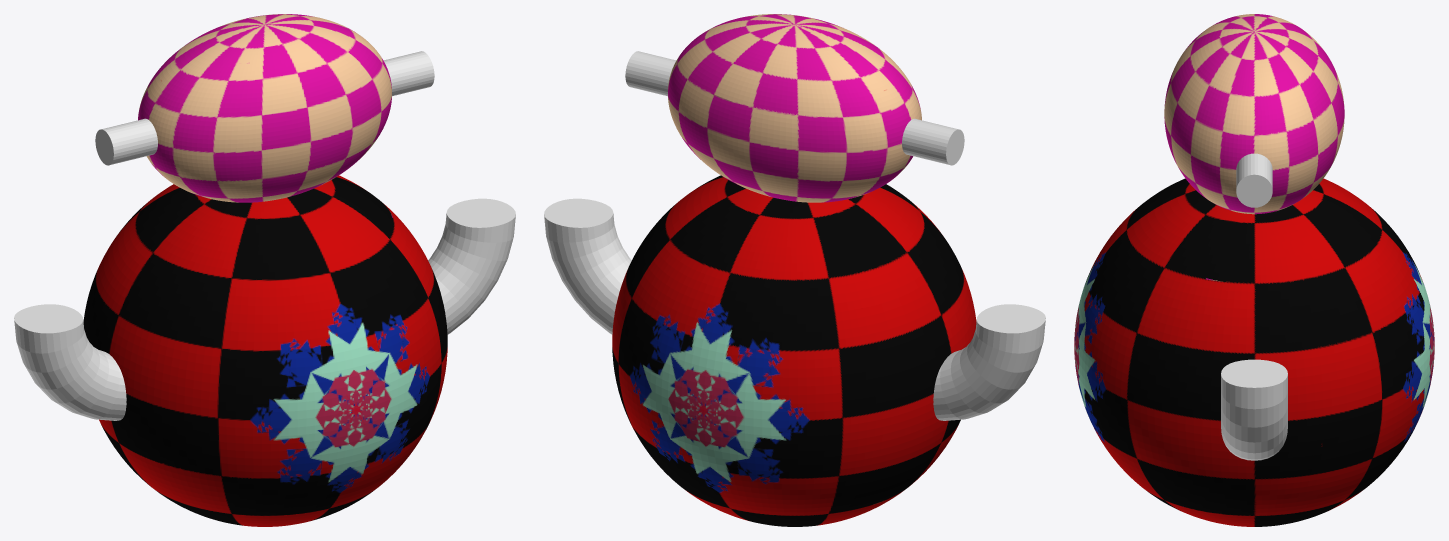
The model's file is BOD0_BMC1_BCC4_BPT4_FRC17_HEA1_HMC12_HCC10_HPT4_ELT1_ERT1_ELL1_ERL1_AP3_AAL1_AAR1_BEK0.fbx.
3 renders of one model, left to right at view 1: azimuth 30°, elevation 25°; view 2: azimuth 150°, elevation 25°; view 3: azimuth 270°, elevation 25°, orthographic.
Visible parts, largest first — view 1: Body, Arm.001, Arm, Ear, Ear.001; view 2: Body, Arm.001, Arm, Ear, Ear.001; view 3: Body, Arm, Ear.001.
Part boxes in pixels (x1,y1,x2,y2): Body: [83, 14, 447, 526]; Arm.001: [14, 304, 126, 420]; Arm: [428, 198, 515, 334]; Ear: [95, 118, 157, 165]; Ear.001: [383, 51, 434, 96]; Body: [612, 14, 976, 526]; Arm.001: [933, 304, 1045, 420]; Arm: [544, 198, 631, 334]; Ear: [902, 118, 964, 165]; Ear.001: [625, 51, 676, 96]; Body: [1074, 14, 1434, 526]; Arm: [1221, 359, 1287, 460]; Ear.001: [1236, 153, 1272, 207].
Bounding box in the file's own units: 76.63 × 72.41 × 49.36.
Materials: 1 (1 with a texture image).
